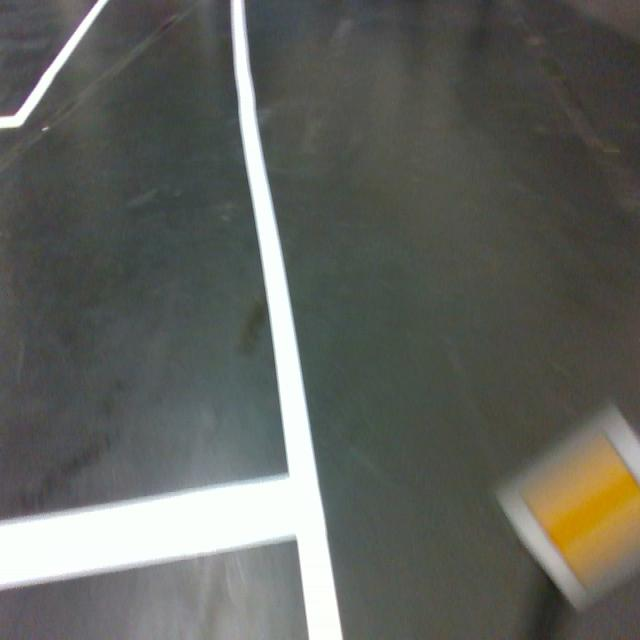priority-sign: (491, 399, 640, 618)
